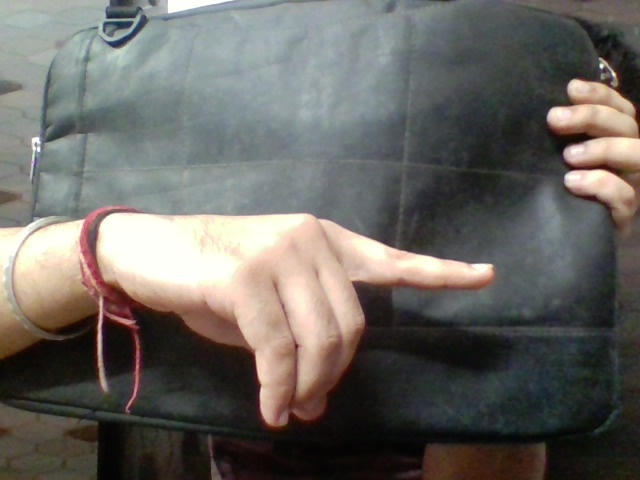p: (152, 162, 504, 429)
